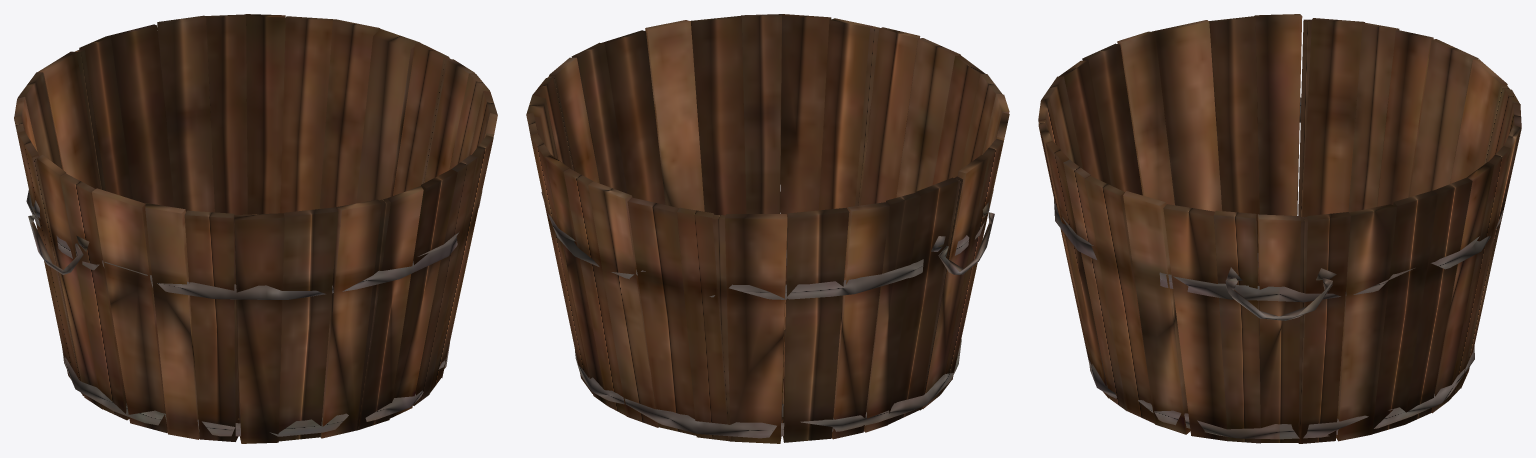
Rendered from tub.glb.
3 views of the same model, side by side, from view 1: azimuth 30°, elevation 25°; view 2: azimuth 150°, elevation 25°; view 3: azimuth 270°, elevation 25° (orthographic).
Visible parts, largest first — view 1: wooden_bucket_02; view 2: wooden_bucket_02; view 3: wooden_bucket_02.
Part boxes in pixels (x1,y1,x2,y2): wooden_bucket_02: (14,14,497,443); wooden_bucket_02: (526,14,1009,443); wooden_bucket_02: (1038,14,1521,443).
Size of the model in its own units: 0.6111 by 0.3503 by 0.6124.
1 material, 1 textured.
